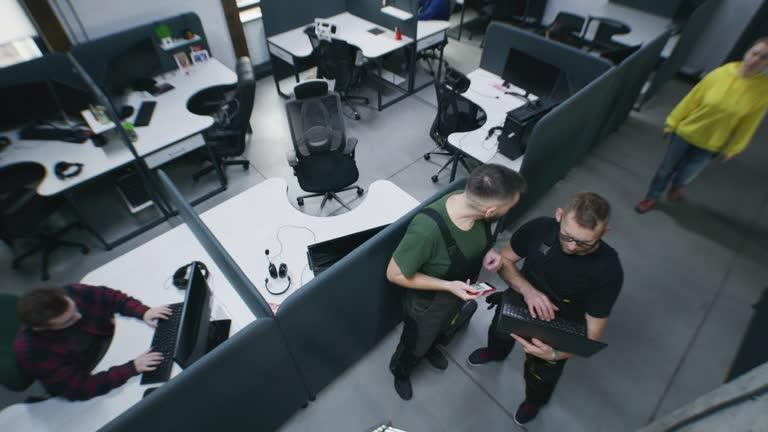long sleeve shirt: (13, 283, 152, 402)
short sleeve shirt: (510, 214, 626, 320), (393, 190, 494, 283)
sweater: (665, 58, 768, 156)
trousers: (489, 295, 587, 405), (387, 289, 464, 374), (645, 130, 717, 199)
